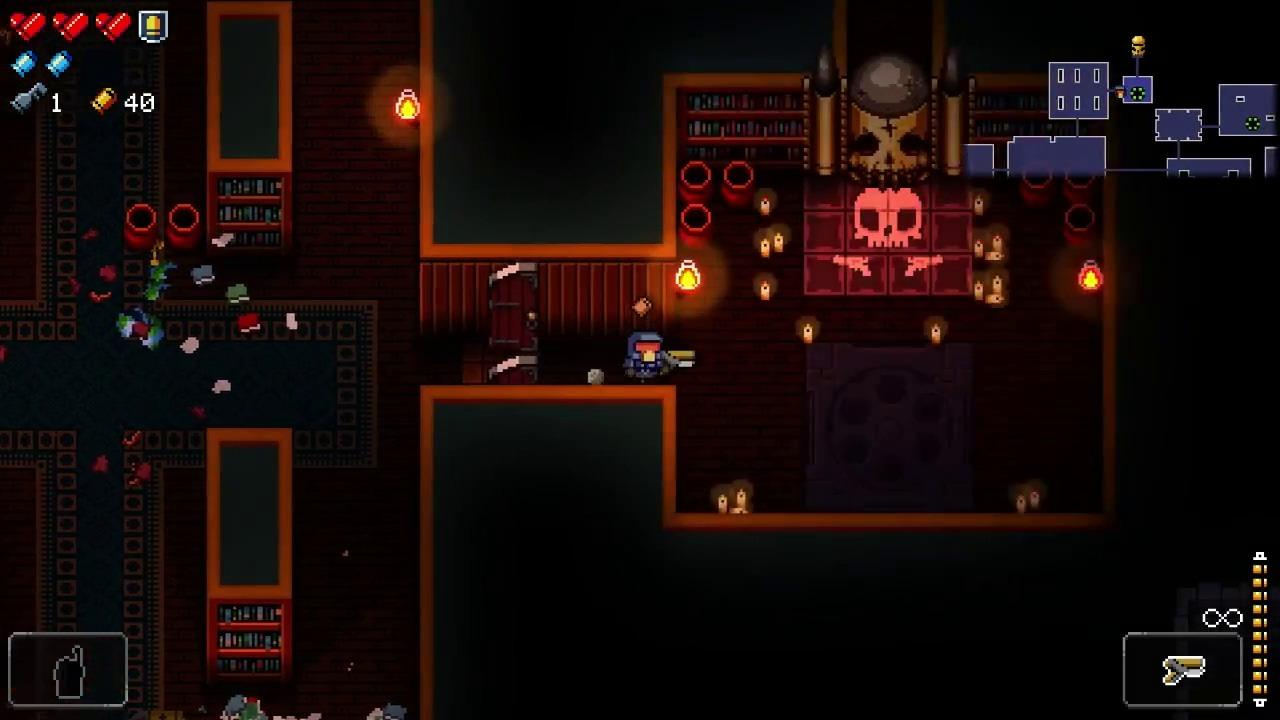boss_entry: (807, 169, 973, 297)
player: (628, 332, 664, 381)
unlocked_door: (488, 259, 539, 387)
